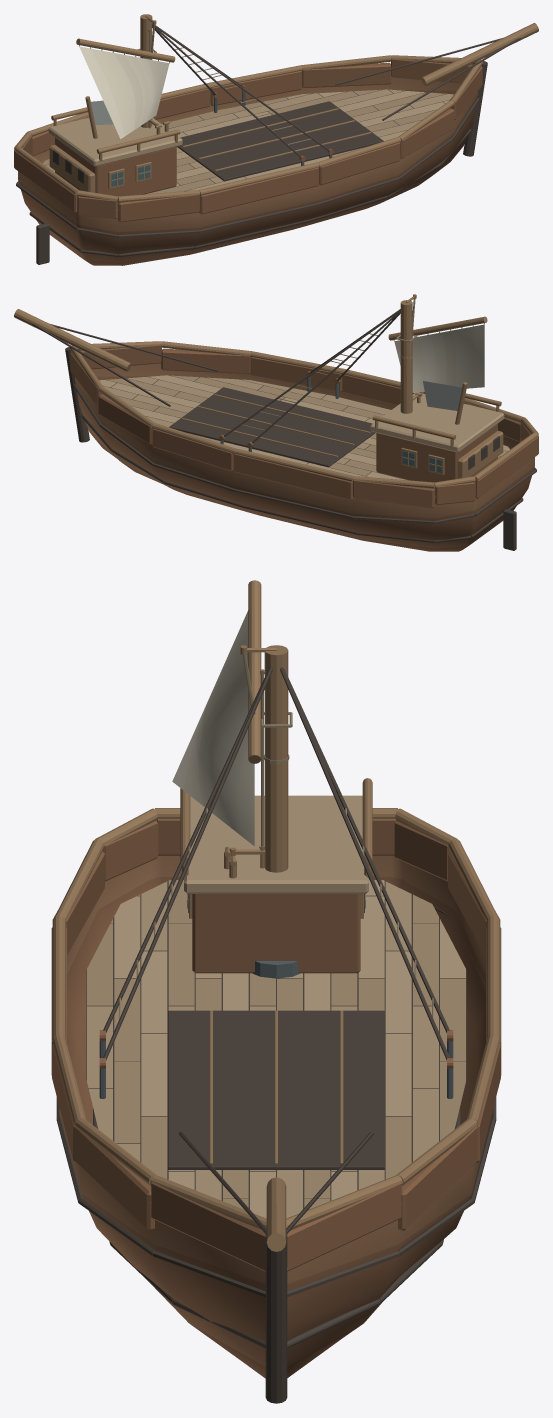
Rendered from transport.glb.
The picture shows the model from 3 angles, top to bottom: view 1: azimuth 30°, elevation 25°; view 2: azimuth 150°, elevation 25°; view 3: azimuth 270°, elevation 25°; orthographic projection. The views are drawn at different scales.
Parts seen in each view (by area): view 1: Hull, Sail_mast0_main, Rig_mast0, OwnerFlag; view 2: Hull, Sail_mast0_main, OwnerFlag, Rig_mast0; view 3: Hull, Sail_mast0_main, Rig_mast0.
Boxes of the visible parts, bbox=[...] form: Hull: bbox=[14, 14, 538, 265]; Sail_mast0_main: bbox=[79, 46, 169, 139]; Rig_mast0: bbox=[76, 15, 175, 125]; OwnerFlag: bbox=[91, 100, 113, 125]; Hull: bbox=[14, 300, 538, 551]; Sail_mast0_main: bbox=[394, 324, 484, 392]; OwnerFlag: bbox=[423, 381, 461, 410]; Rig_mast0: bbox=[388, 294, 487, 400]; Hull: bbox=[51, 645, 501, 1403]; Sail_mast0_main: bbox=[172, 610, 254, 846]; Rig_mast0: bbox=[229, 580, 292, 856].
Size of the model in its own units: 213 by 90.7 by 82.8.
